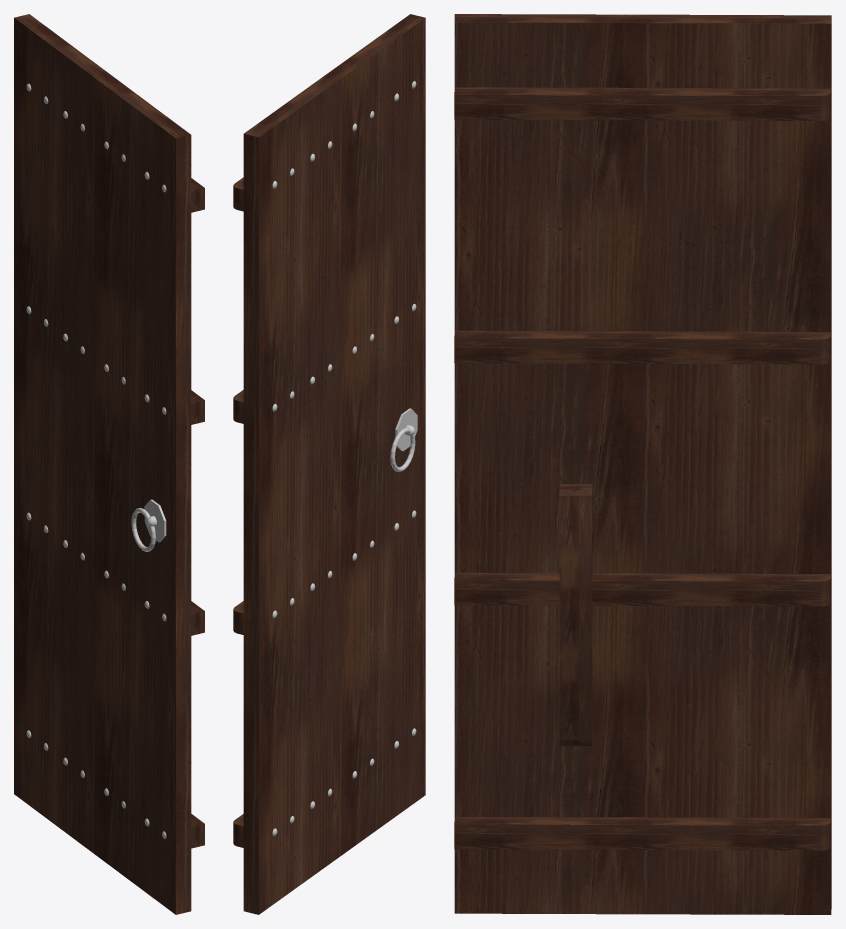
The model's file is SM_D_Gate_3.fbx.
3 views of the same model, side by side, from view 1: azimuth 30°, elevation 25°; view 2: azimuth 150°, elevation 25°; view 3: azimuth 270°, elevation 25° (orthographic). The views are drawn at different scales.
Visible parts, largest first — view 1: SM_D_Gate_3; view 2: SM_D_Gate_3; view 3: SM_D_Gate_3.
Boxes of the visible parts, box(x1,y1,x2,y2) form: SM_D_Gate_3: box(14, 14, 204, 914); SM_D_Gate_3: box(233, 14, 425, 914); SM_D_Gate_3: box(454, 14, 831, 914).
Size of the model in its own units: 22.7 by 119 by 311.
